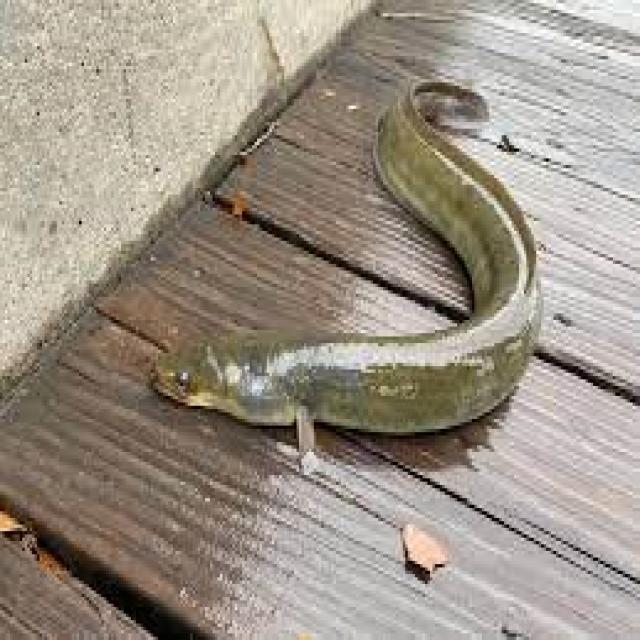Freshwater-Eel: (107, 68, 596, 482)
